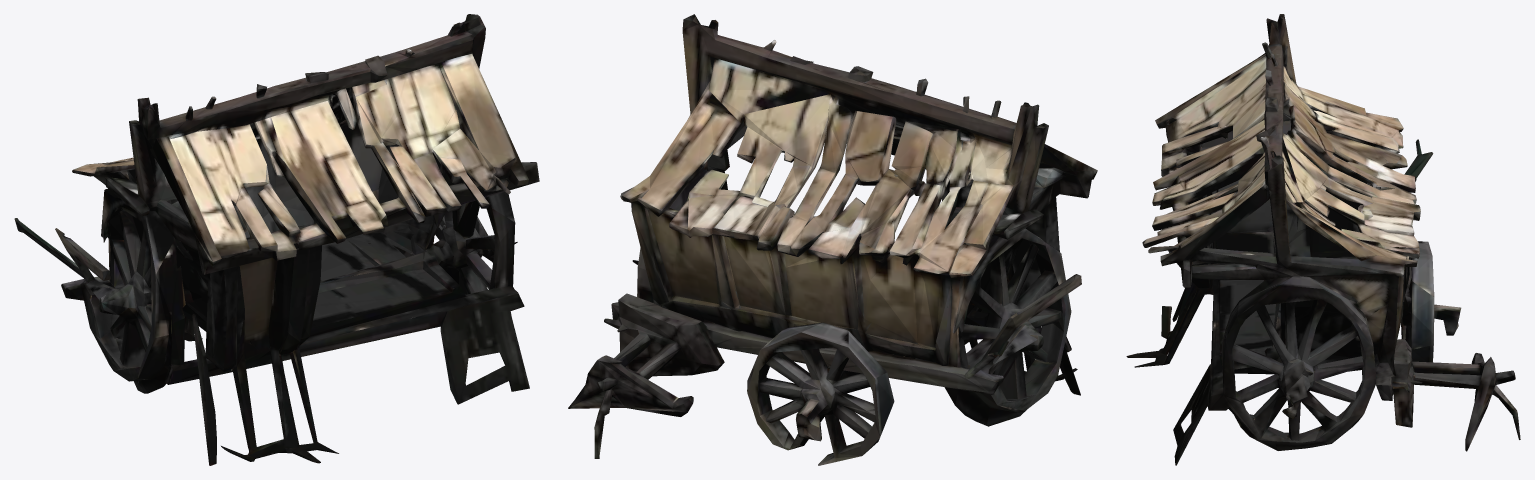
File: war_supply_wagon_wreck_01.glb
3 views of the same model, side by side, from view 1: azimuth 30°, elevation 25°; view 2: azimuth 150°, elevation 25°; view 3: azimuth 270°, elevation 25° (orthographic). The views are drawn at different scales.
Parts seen in each view (by area): view 1: geometry_0; view 2: geometry_0; view 3: geometry_0.
Part boxes in pixels (<box>): geometry_0: <box>14,14,539,465</box>; geometry_0: <box>568,14,1097,465</box>; geometry_0: <box>1126,14,1520,465</box>.
Bounding box in the file's own units: 0.9983 × 0.7363 × 0.8528.
1 material, 1 textured.
